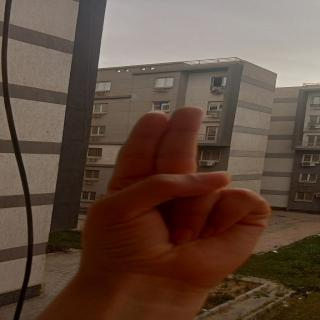TA: (83, 108, 310, 278)
